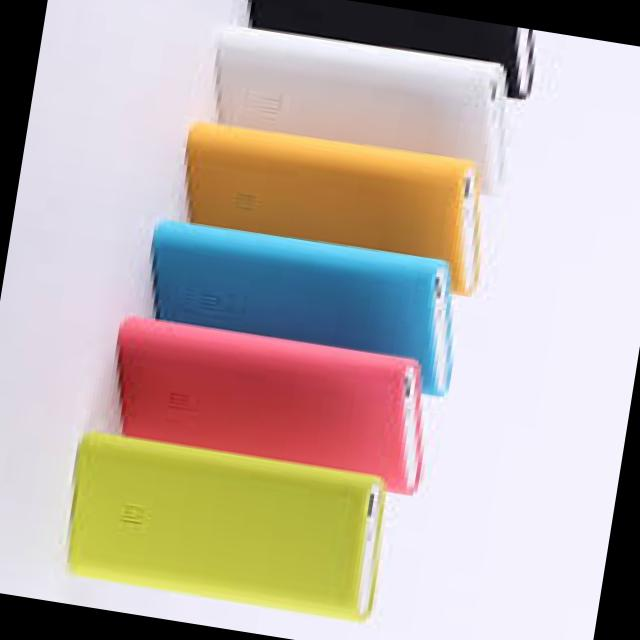power_bank: (127, 210, 474, 404), (90, 311, 441, 500), (189, 14, 519, 214), (56, 428, 385, 621), (171, 113, 490, 291), (231, 0, 554, 104)
